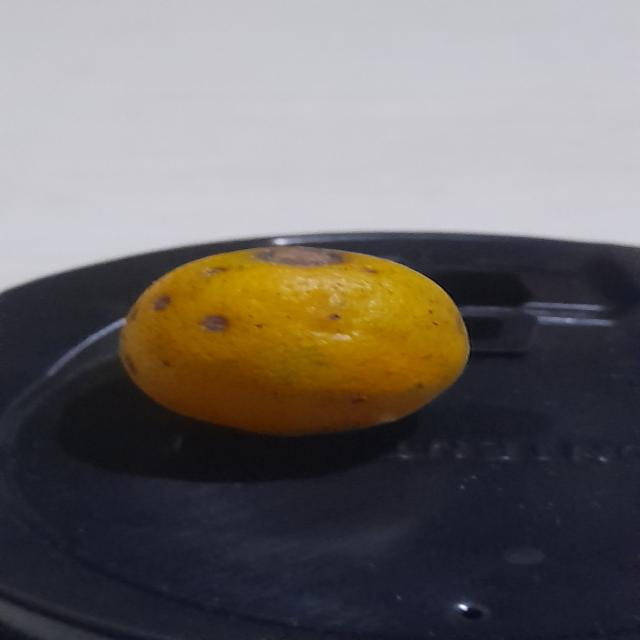black spot: (118, 240, 468, 437)
